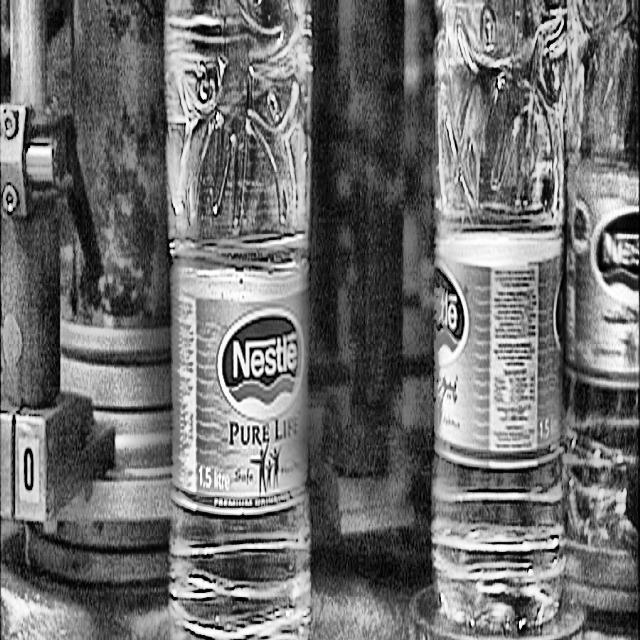waterbottle: (165, 0, 312, 638), (432, 0, 568, 632)
